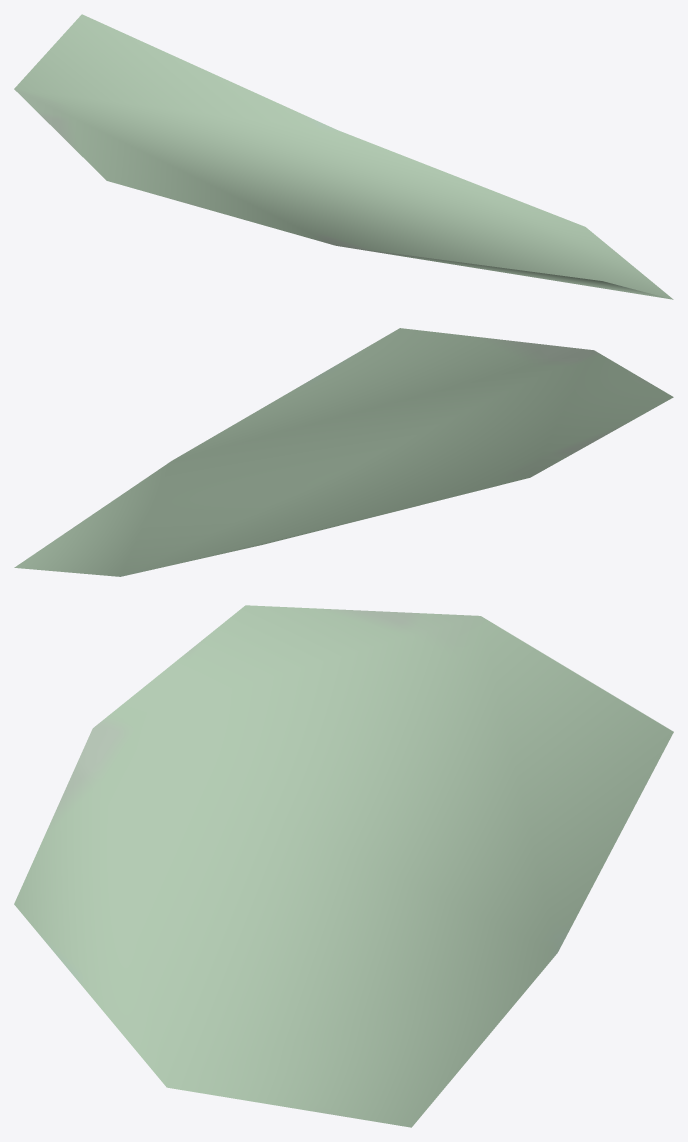
Rendered from TROLLHOLE02_HOLECAP164.fbx.
The picture shows the model from 3 angles, top to bottom: view 1: azimuth 30°, elevation 25°; view 2: azimuth 150°, elevation 25°; view 3: azimuth 270°, elevation 25°; orthographic projection. The views are drawn at different scales.
Parts seen in each view (by area): view 1: TROLLHOLE02_HOLECAP164; view 2: TROLLHOLE02_HOLECAP164; view 3: TROLLHOLE02_HOLECAP164.
Boxes of the visible parts, x1,y1,x2,y2 form: TROLLHOLE02_HOLECAP164: (14,14,673,299); TROLLHOLE02_HOLECAP164: (14,328,673,576); TROLLHOLE02_HOLECAP164: (14,605,673,1127).
Bounding box in the file's own units: 41045 × 17059 × 41368.
1 material, 1 textured.
